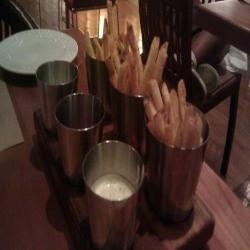fries: (89, 23, 208, 155)
